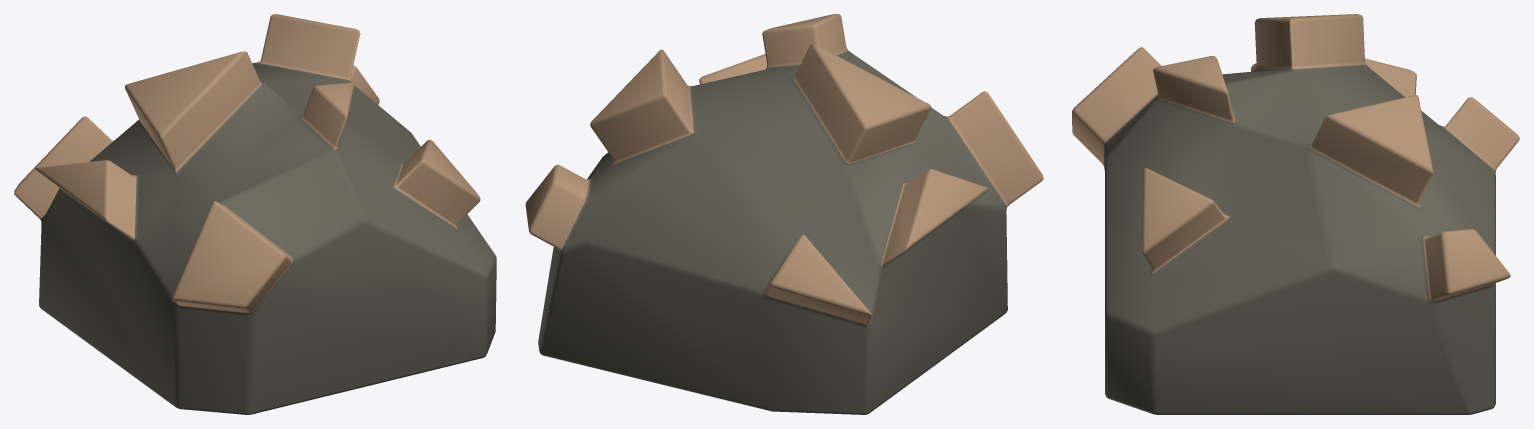
File: Resource Iron (v.1).fbx
The picture shows the model from 3 angles, left to right: view 1: azimuth 30°, elevation 25°; view 2: azimuth 150°, elevation 25°; view 3: azimuth 270°, elevation 25°; orthographic projection. The views are drawn at different scales.
Parts seen in each view (by area): view 1: iron; view 2: iron; view 3: iron.
Boxes of the visible parts, bbox=[...] form: iron: bbox=[14, 14, 496, 414]; iron: bbox=[525, 14, 1043, 414]; iron: bbox=[1072, 14, 1519, 414].
Bounding box in the file's own units: 104 × 76.58 × 104.
